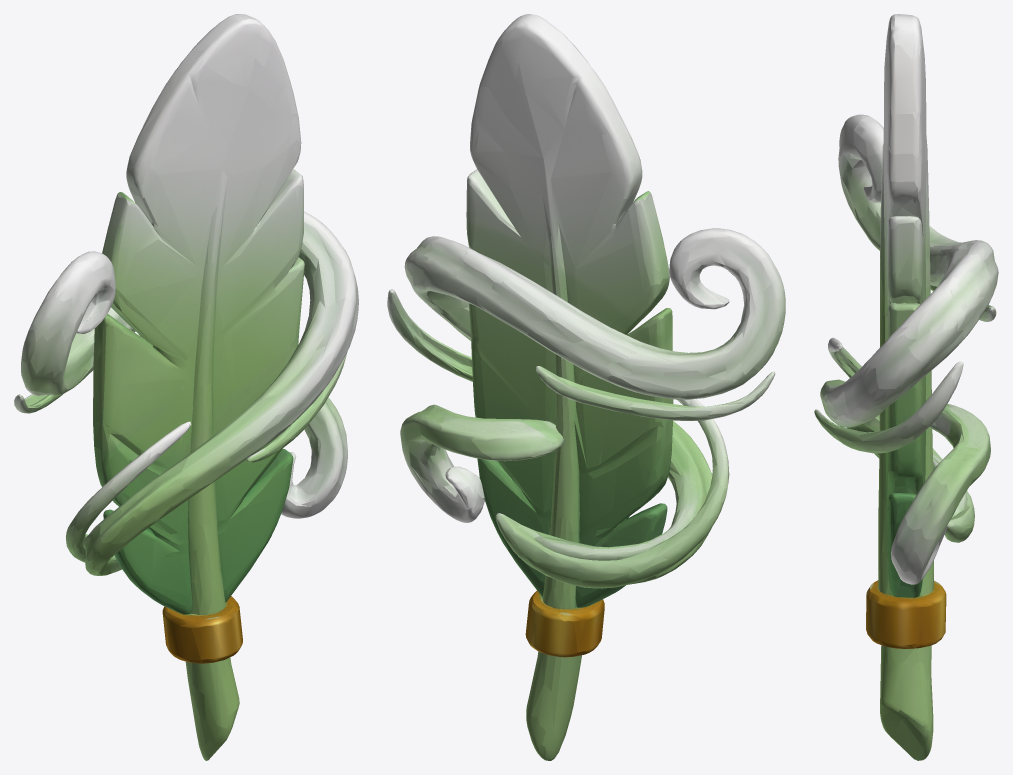
The model's file is wind_feather.glb.
3 renders of one model, left to right at view 1: azimuth 30°, elevation 25°; view 2: azimuth 150°, elevation 25°; view 3: azimuth 270°, elevation 25°, orthographic. The views are drawn at different scales.
Size of the model in its own units: 0.9639 by 1.9 by 0.4194.
Materials: 1 (1 with a texture image).
